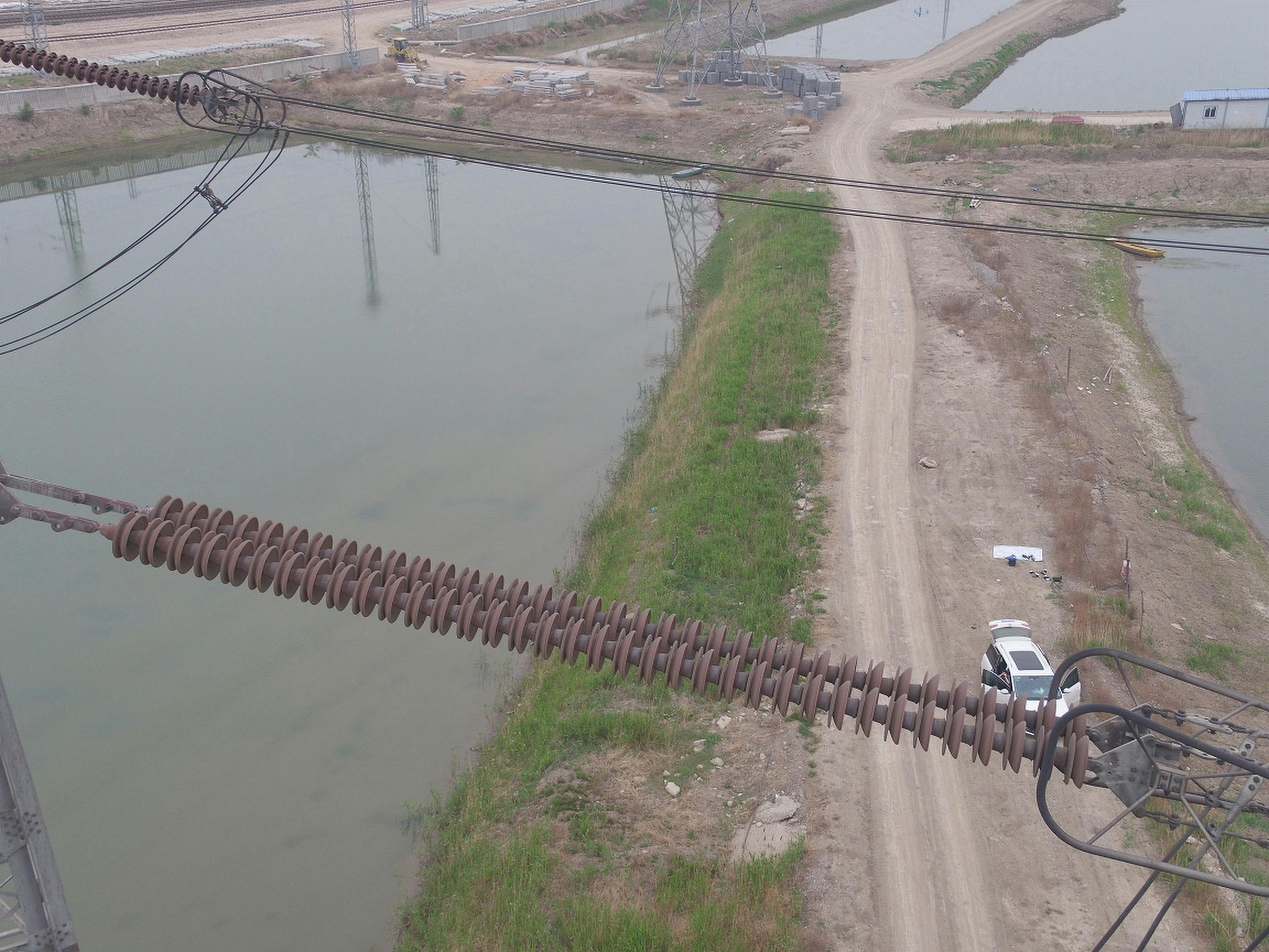insulator: (105, 490, 1093, 794), (1, 35, 202, 109)
